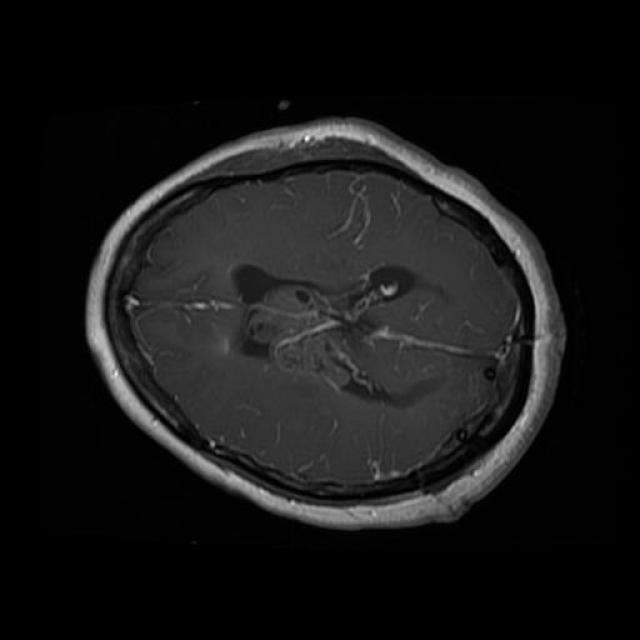Glioma: (246, 280, 381, 389)
